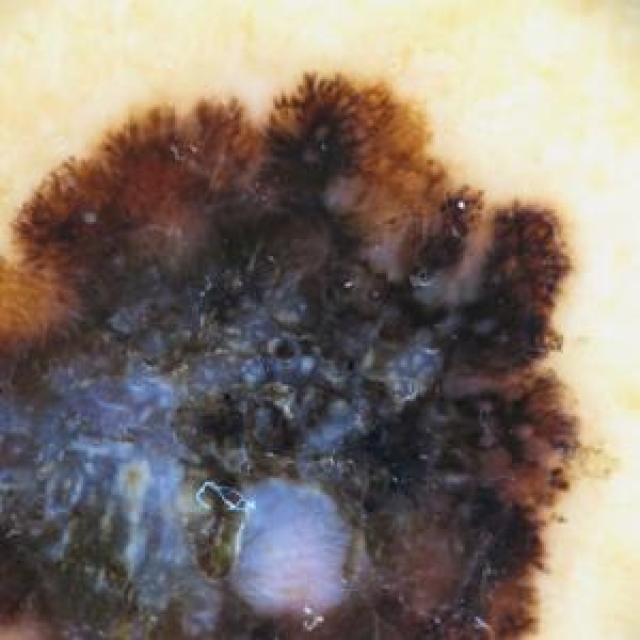Cancer: (0, 72, 563, 634)
